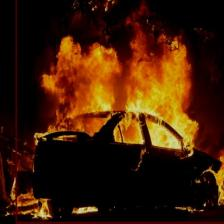fire: (15, 0, 224, 224)
